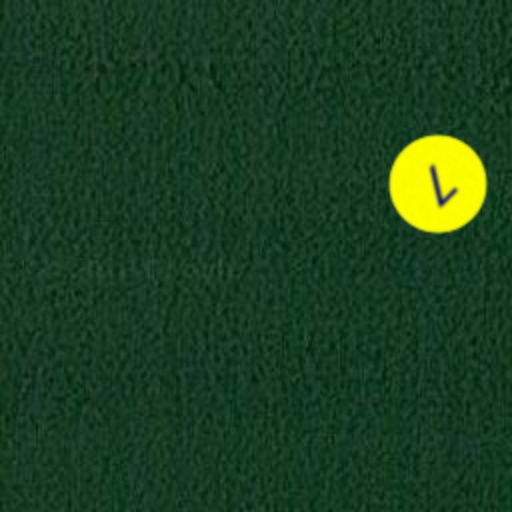circle: (368, 114, 508, 254)
